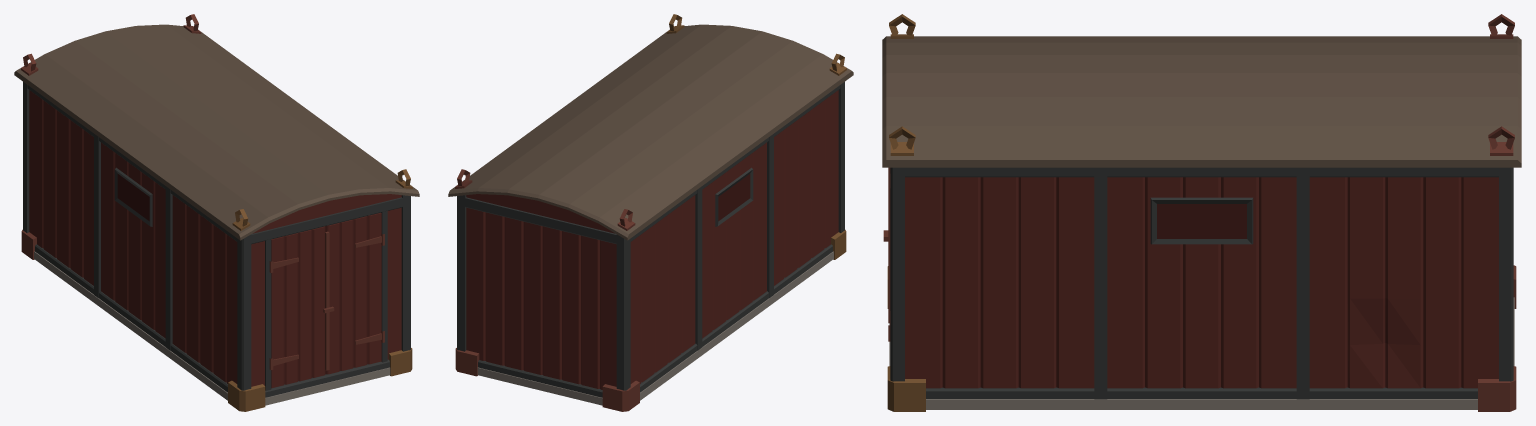
The model's file is railway-container-1cfbbd.glb.
3 renders of one model, left to right at view 1: azimuth 30°, elevation 25°; view 2: azimuth 150°, elevation 25°; view 3: azimuth 270°, elevation 25°, orthographic. The views are drawn at different scales.
Visible parts, largest first — view 1: body, door-r-leaf, door-l-leaf; view 2: body; view 3: body, door-r-leaf.
Part boxes in pixels (left/top/right/bottom): body: left=14, top=14, right=419, bottom=411; door-r-leaf: left=323, top=212, right=384, bottom=374; door-l-leaf: left=269, top=226, right=325, bottom=388; body: left=448, top=14, right=853, bottom=411; body: left=882, top=14, right=1521, bottom=411; door-r-leaf: left=883, top=167, right=890, bottom=341.
Bounding box in the file's own units: 2.28 × 2.41 × 4.98.
